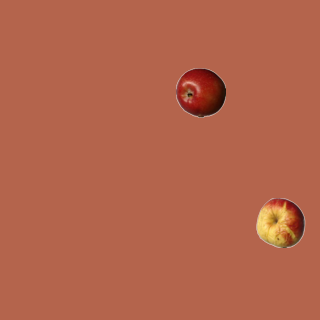Apple Braeburn: (175, 67, 225, 117)
Apple Red Yellow 1: (255, 197, 305, 247)
